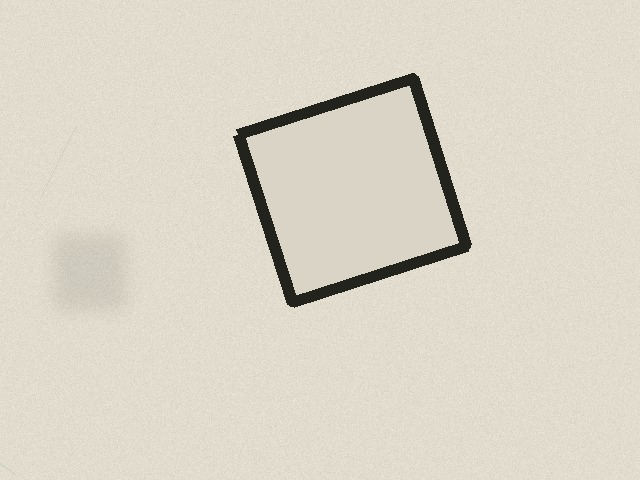parking_area: (238, 78, 466, 302)
